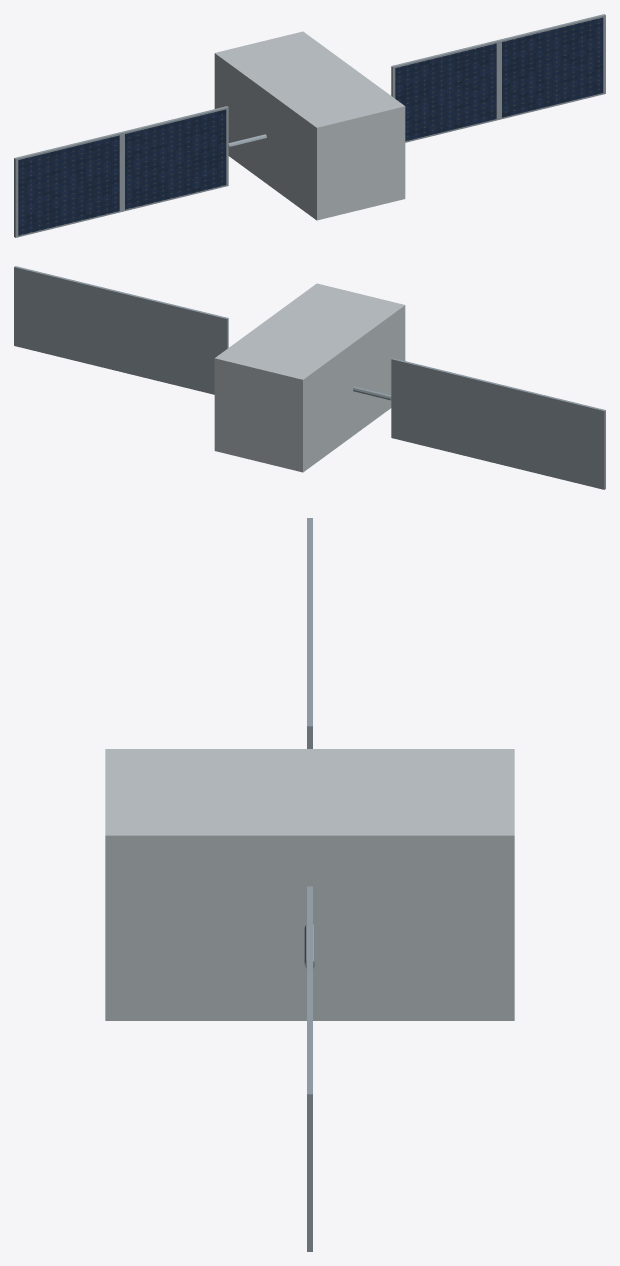
Rendered from ref-eaglet-66695.glb.
3 views of the same model, one above another, from view 1: azimuth 30°, elevation 25°; view 2: azimuth 150°, elevation 25°; view 3: azimuth 270°, elevation 25° (orthographic). The views are drawn at different scales.
Visible parts, largest first — view 1: Photovoltaic laminates (×4), Spacecraft body, Array frame (×4); view 2: Array frame (×4), Spacecraft body; view 3: Spacecraft body, Array frame.
Part boxes in pixels (<box>): Photovoltaic laminates (×4): <box>18,17,603,235</box>; Spacecraft body: <box>214,31,405,220</box>; Array frame (×4): <box>14,14,605,237</box>; Array frame (×4): <box>14,266,605,489</box>; Spacecraft body: <box>214,283,405,472</box>; Spacecraft body: <box>105,749,514,1020</box>; Array frame: <box>307,990,312,1251</box>.
Bounding box in the file's own units: 2 × 0.3 × 0.6.
Materials: 3 (1 with a texture image).
